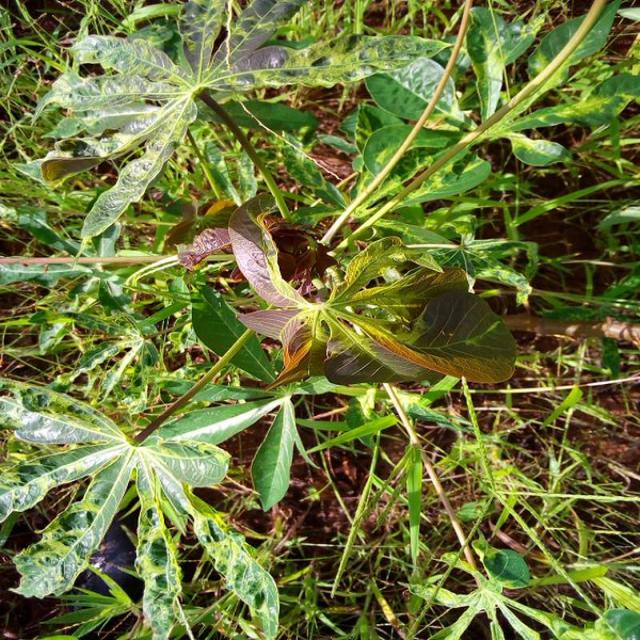cassava leaf: (1, 1, 634, 637), (226, 190, 517, 389)
